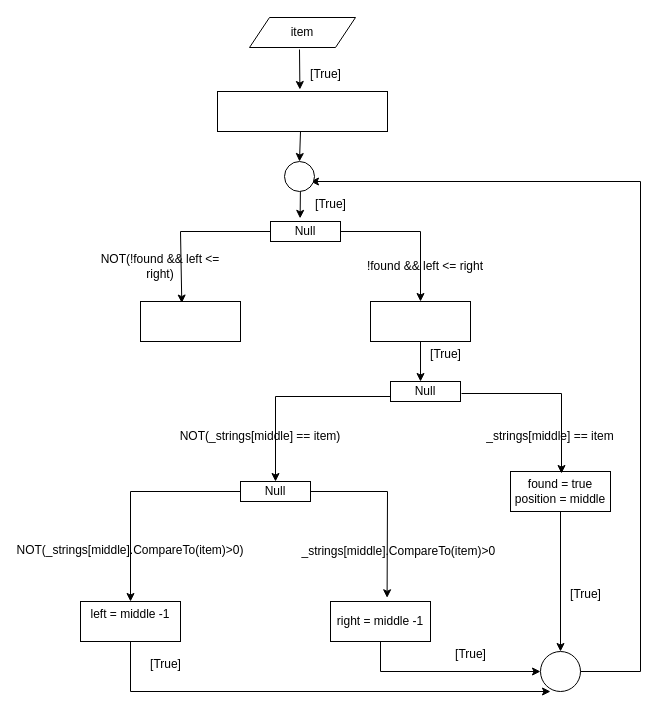
This 666x717 diagram has some shape labels left out. The centre of each missing label's shape, as x and y in pixels:
"middle = (left+right)/2" belongs at point 420,321.
"position = -1, left = 0, right = NumberOfStrings - 1, found = false, middle" belongs at point 302,111.
"return position" belongs at point 190,321.
